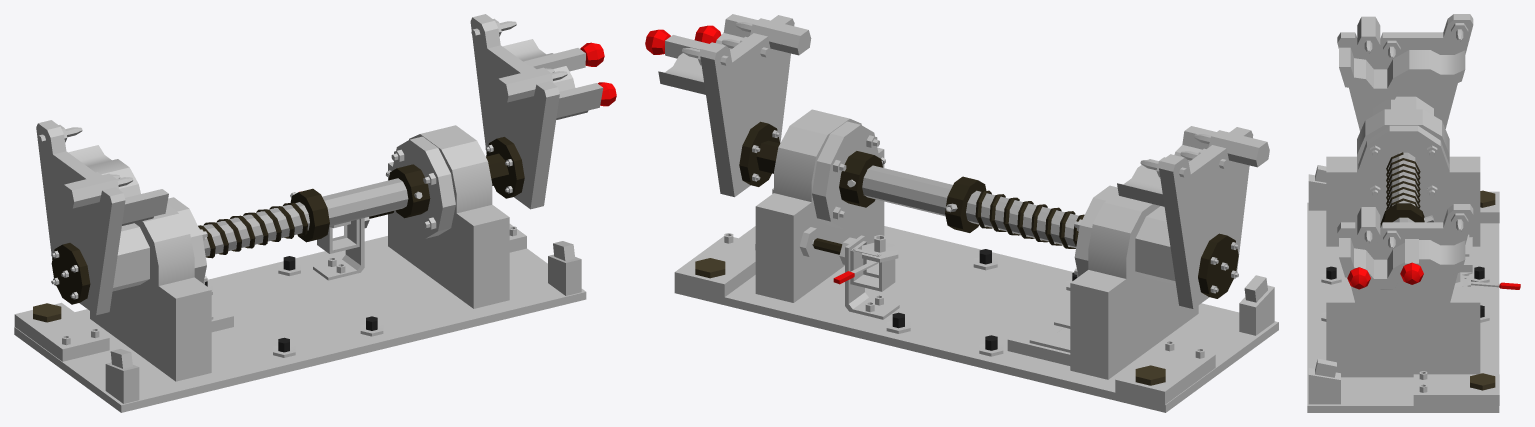
Rendered from caozuo05.FBX.
3 renders of one model, left to right at view 1: azimuth 30°, elevation 25°; view 2: azimuth 150°, elevation 25°; view 3: azimuth 270°, elevation 25°, orthographic. The views are drawn at different scales.
Parts seen in each view (by area): view 1: YF_Model_caozuo05; view 2: YF_Model_caozuo05; view 3: YF_Model_caozuo05.
Part boxes in pixels (x1,y1,x2,y2): YF_Model_caozuo05: (14,14,616,412); YF_Model_caozuo05: (645,14,1278,412); YF_Model_caozuo05: (1307,14,1520,412).
Size of the model in its own units: 32.84 by 12.41 by 12.09.
1 material, 1 textured.
